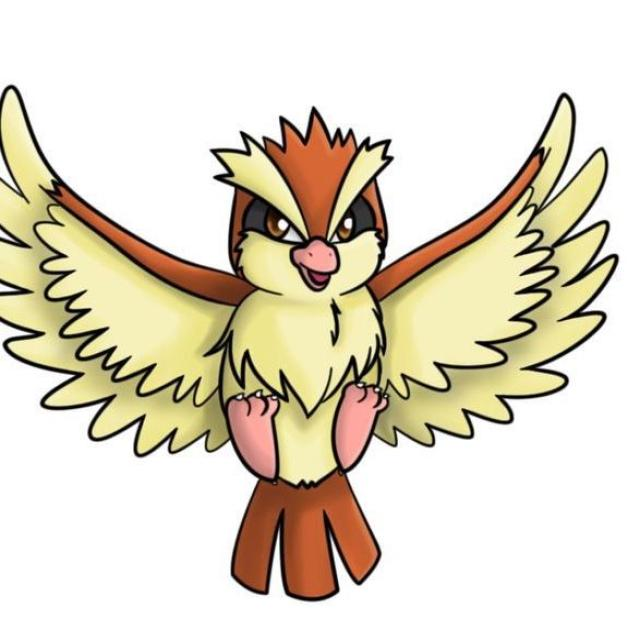Pidgey: (81, 102, 506, 596)
